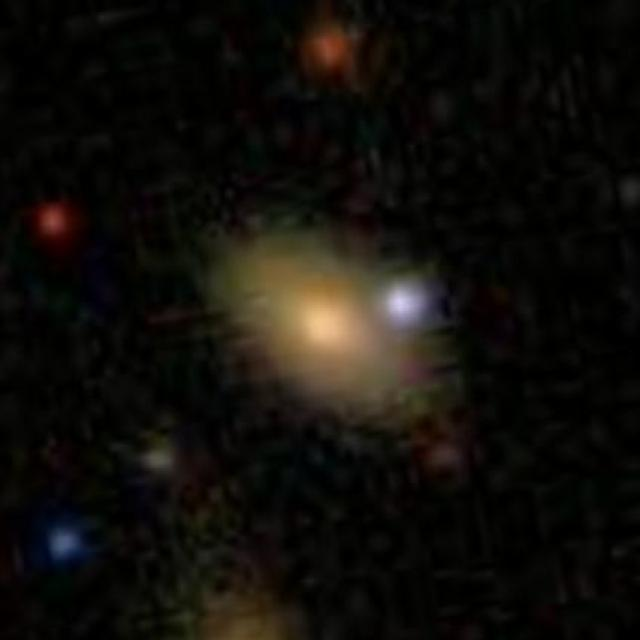galaxy: (200, 214, 461, 445), (295, 14, 364, 84), (379, 271, 441, 332), (46, 522, 94, 567), (34, 197, 75, 244), (138, 444, 184, 477)
